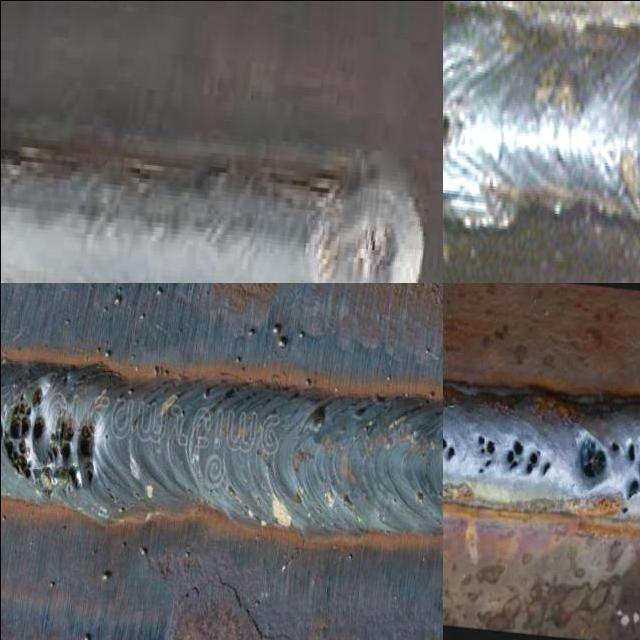defect: (575, 432, 640, 519), (0, 385, 48, 480), (45, 418, 98, 491), (475, 430, 498, 477), (503, 434, 523, 471), (442, 101, 455, 157), (525, 446, 541, 477), (442, 434, 460, 461), (541, 459, 552, 477)
